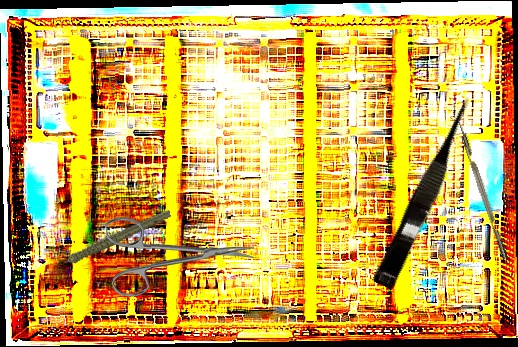Chopper: (448, 113, 509, 263)
Handpiece: (43, 209, 177, 269)
Iris Scissors: (105, 214, 255, 298)
Micro Scissor: (371, 93, 485, 293)
